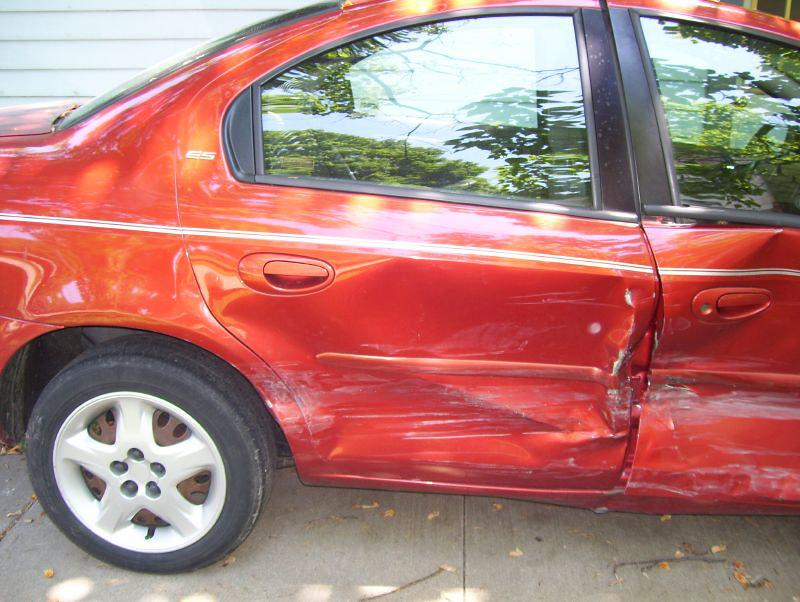doorouter-dent: (166, 168, 648, 504), (621, 202, 799, 539)
